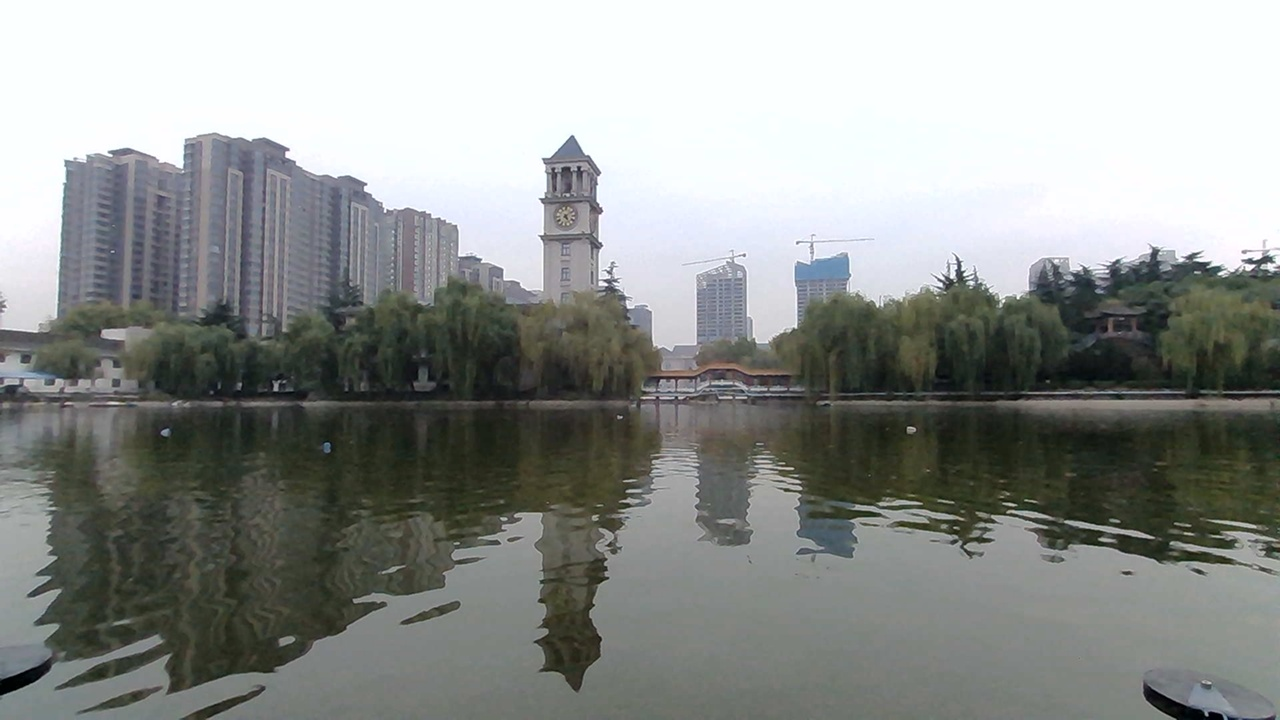bottle: (881, 419, 919, 440), (310, 438, 344, 460), (158, 417, 179, 445)
